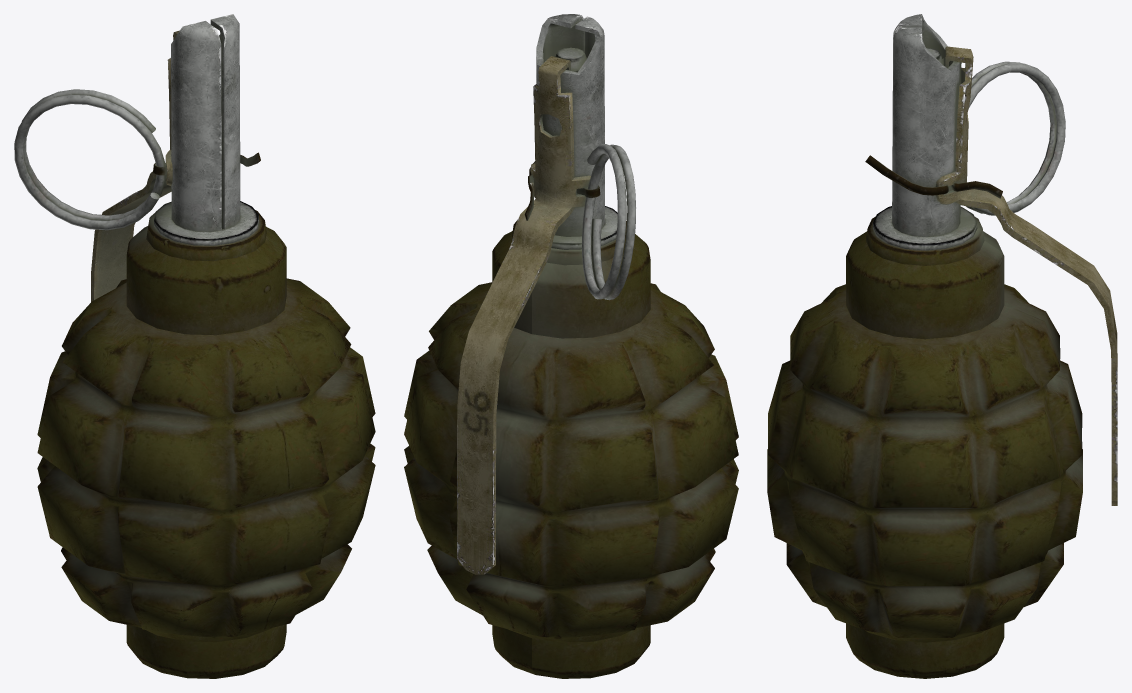
3 renders of one model, left to right at view 1: azimuth 30°, elevation 25°; view 2: azimuth 150°, elevation 25°; view 3: azimuth 270°, elevation 25°, orthographic.
Parts seen in each view (by area): view 1: f_1_main_low, f_1_zapal_low, f_1_cheka_low, f_1_extractor_low; view 2: f_1_main_low, f_1_extractor_low, f_1_zapal_low, f_1_cheka_low; view 3: f_1_main_low, f_1_zapal_low, f_1_extractor_low, f_1_cheka_low.
Part boxes in pixels (x1,y1,x2,y2): f_1_main_low: [37, 210, 375, 678]; f_1_zapal_low: [154, 14, 258, 245]; f_1_cheka_low: [14, 89, 260, 230]; f_1_extractor_low: [91, 30, 179, 301]; f_1_main_low: [404, 219, 738, 678]; f_1_extractor_low: [457, 56, 590, 574]; f_1_zapal_low: [536, 14, 617, 249]; f_1_cheka_low: [525, 144, 635, 300]; f_1_main_low: [767, 216, 1082, 678]; f_1_zapal_low: [873, 14, 977, 250]; f_1_extractor_low: [935, 46, 1117, 505]; f_1_cheka_low: [865, 61, 1065, 215].
Size of the model in its own units: 18479 by 37816 by 19312.
